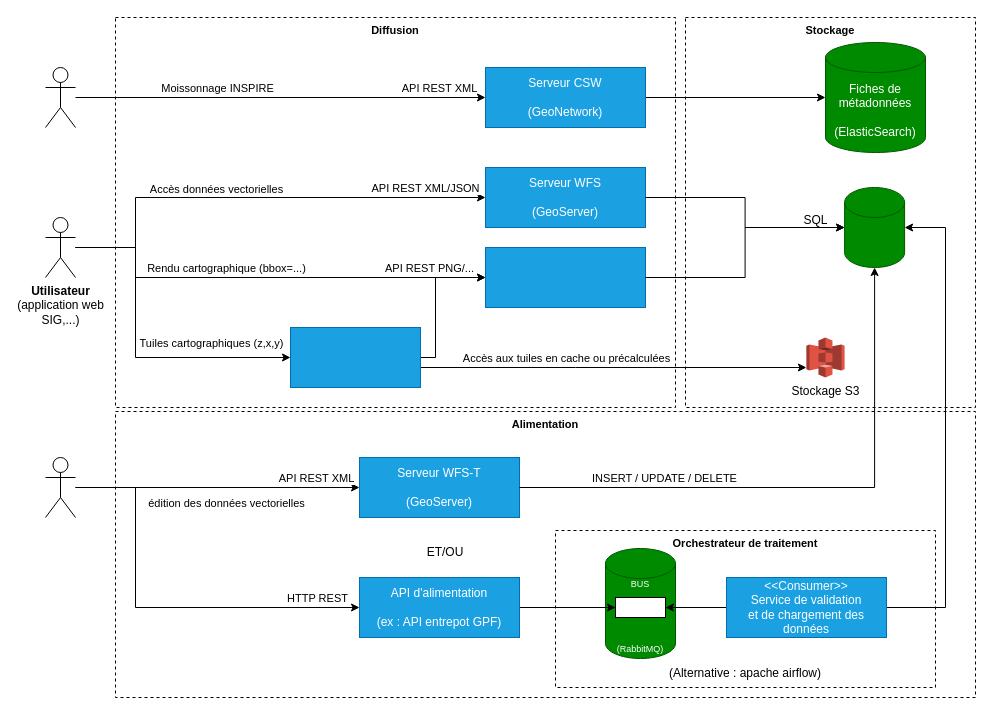
Image size: 993x715. Some labels were removed from this diagram. Here are the shapes that lost their labels. From the top down, the centre of each, then its label:
At [60,97]: "geocatalogue.fr".
At [874,227]: "Données vecteurs (SGBD)".
At [565,277]: "Serveur WMS (GeoServer)".
At [355,357]: "Serveur WMTS/TMS (GeoWebCache)".
At [60,487]: "Gestionnaire des données".
At [640,607]: "upload".
